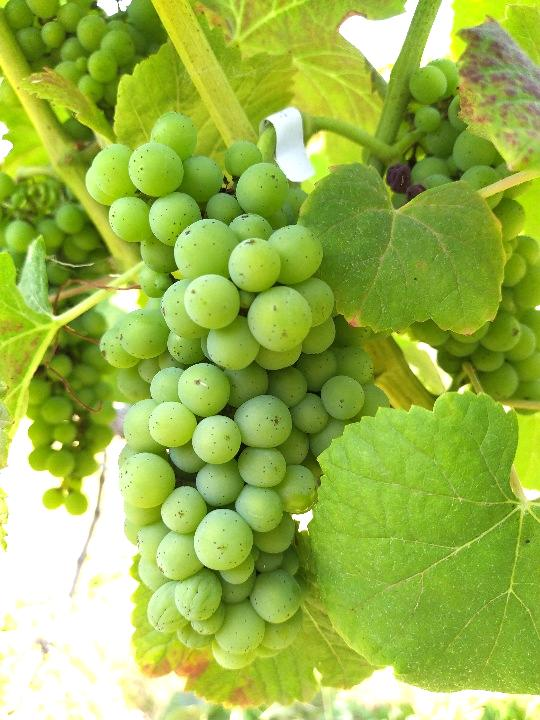grape: (85, 109, 390, 676)
